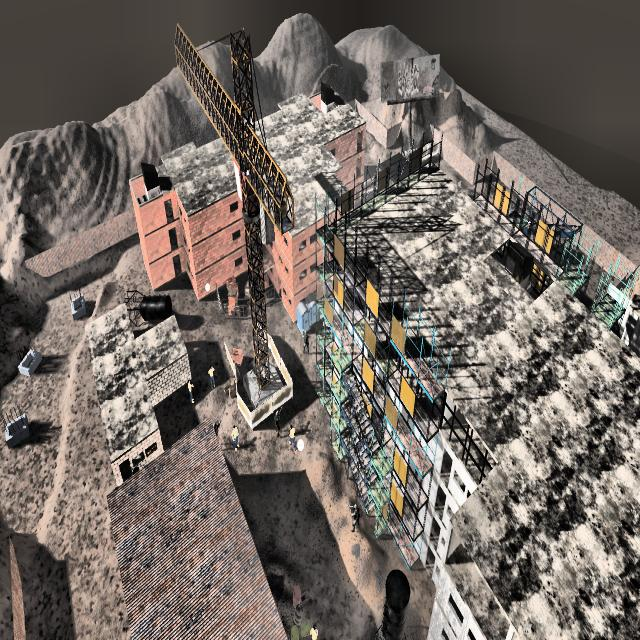bad: (344, 495, 363, 540), (272, 401, 284, 446), (300, 324, 312, 361), (211, 405, 222, 441)
good: (185, 374, 198, 408), (305, 615, 321, 640), (286, 422, 298, 455), (231, 418, 241, 456), (207, 353, 216, 393)
